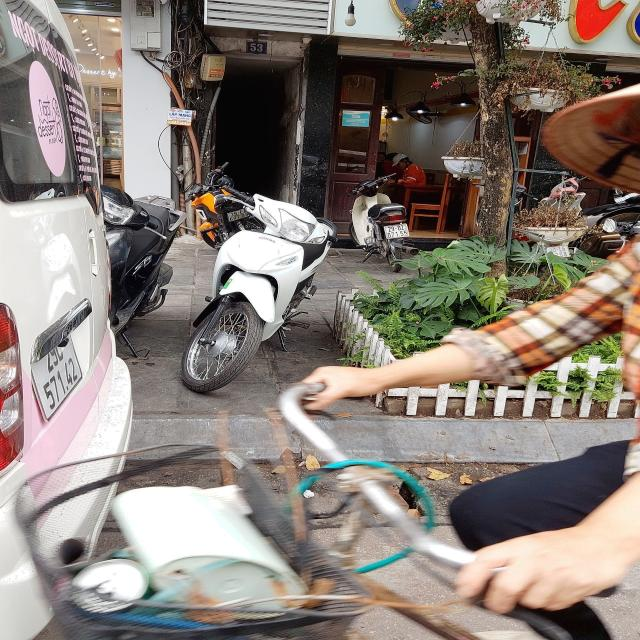license_plate: (385, 223, 411, 240)
